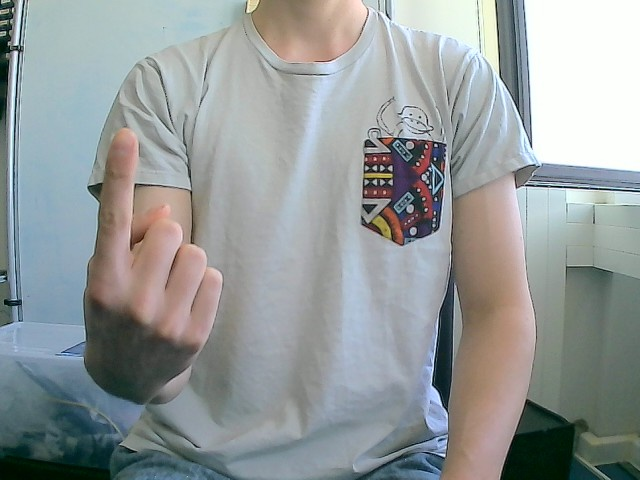up: (81, 127, 224, 406)
